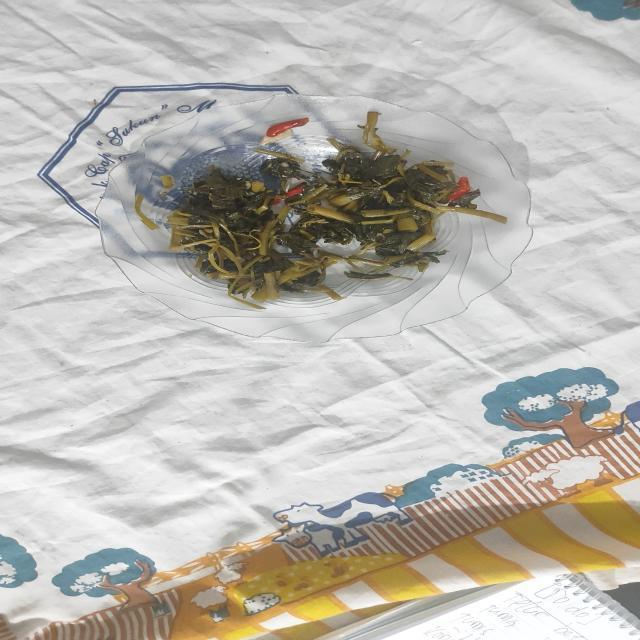tumis_kangkung: (168, 138, 458, 307)
